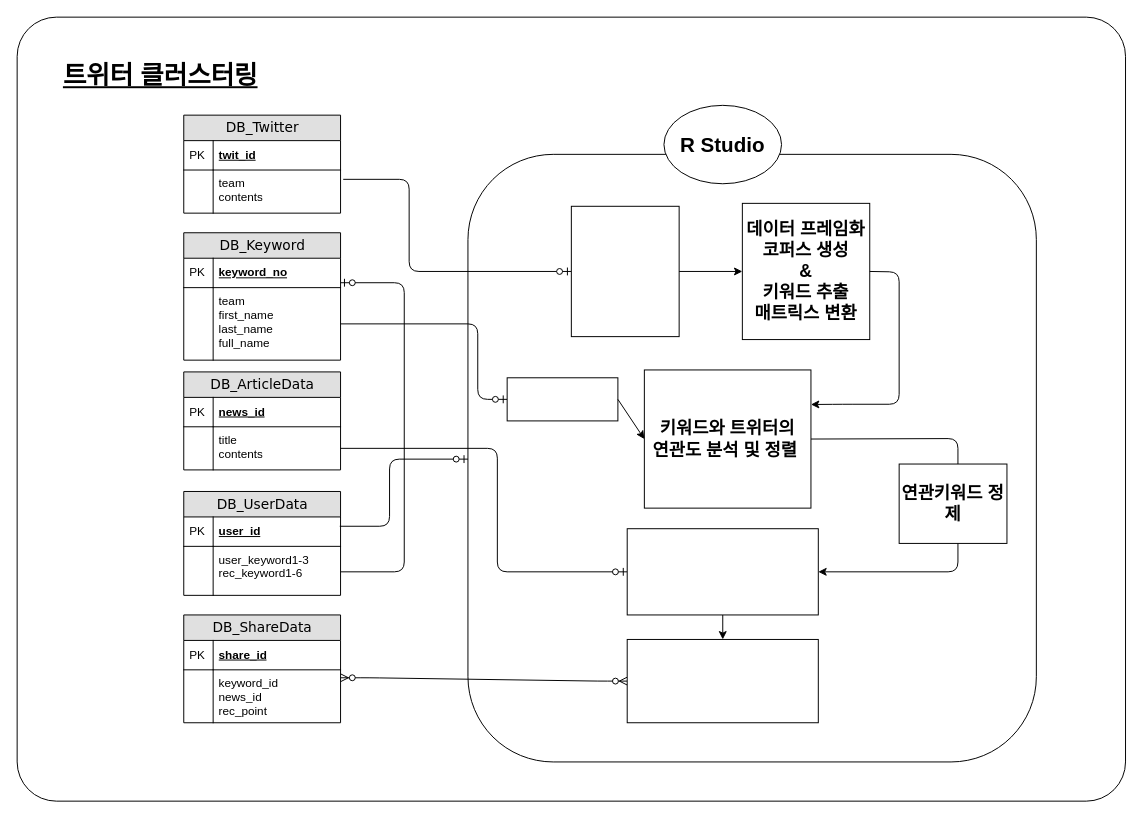
The diagram is 1143 pixels wide and 818 high, and some of its shapes have lost their labels. The centre of each missing label's shape, as x and y in pixels:
"기사에 해당 키워드가 존재할 경우 클러스터링 점수 부여" goes at point 722,571.
"키워드 id, 기사 id, 클러스터링 점수 저장" goes at point 722,680.
"키워드 추출" goes at point 562,399.
"트위터 내용 추출" goes at point 624,271.
